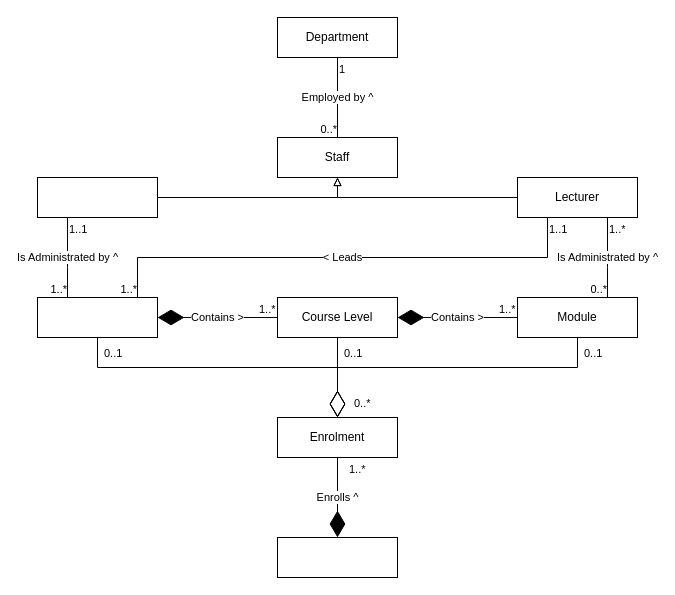
This 675x595 diagram has some shape labels left out. The shapes that lost their labels are listed below. From the top down, each one's centre as x and y in pixels, then its label:
At (97,197): "Administrator".
At (97,317): "Course".
At (337,557): "Student".
